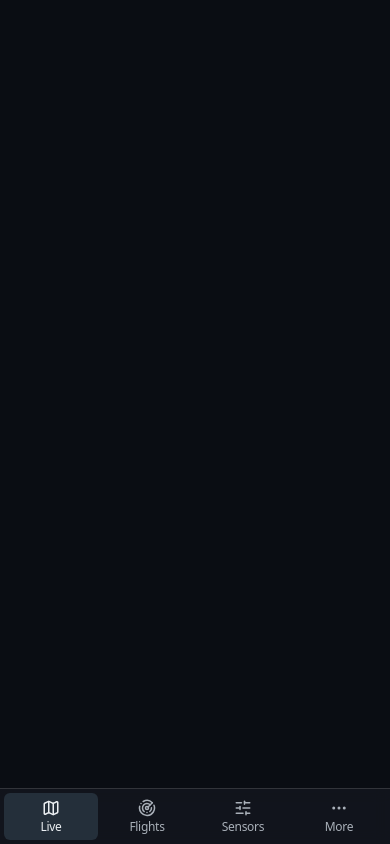
Test case: the phone tabs › opens a sheet with the destinations the bar cannot hold, plus search
The width and height of the screenshot is (390, 844).
Click the button "More". click: coordinates (339, 816)
box: [292,793,386,840]
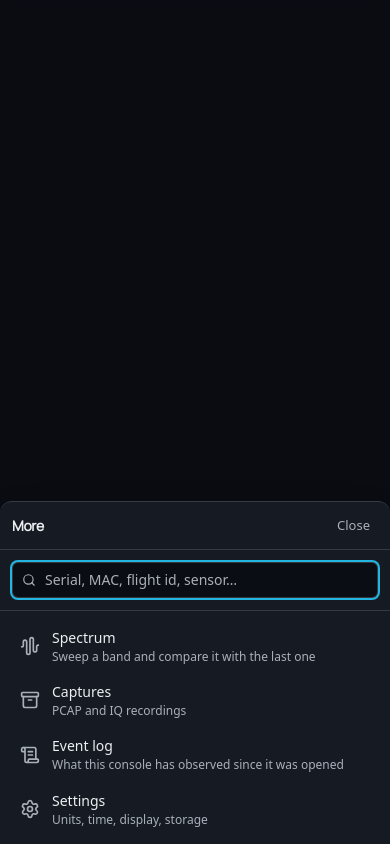
Expected: the link "Spectrum Sweep a band and compare it with the last one" is shown, [20,628,316,665]
Expected: the link "Captures PCAP and IQ recordings" is shown, [20,682,186,719]
Expected: the link "Event log What this console has observed since it was opened" is shown, [8,727,382,782]
